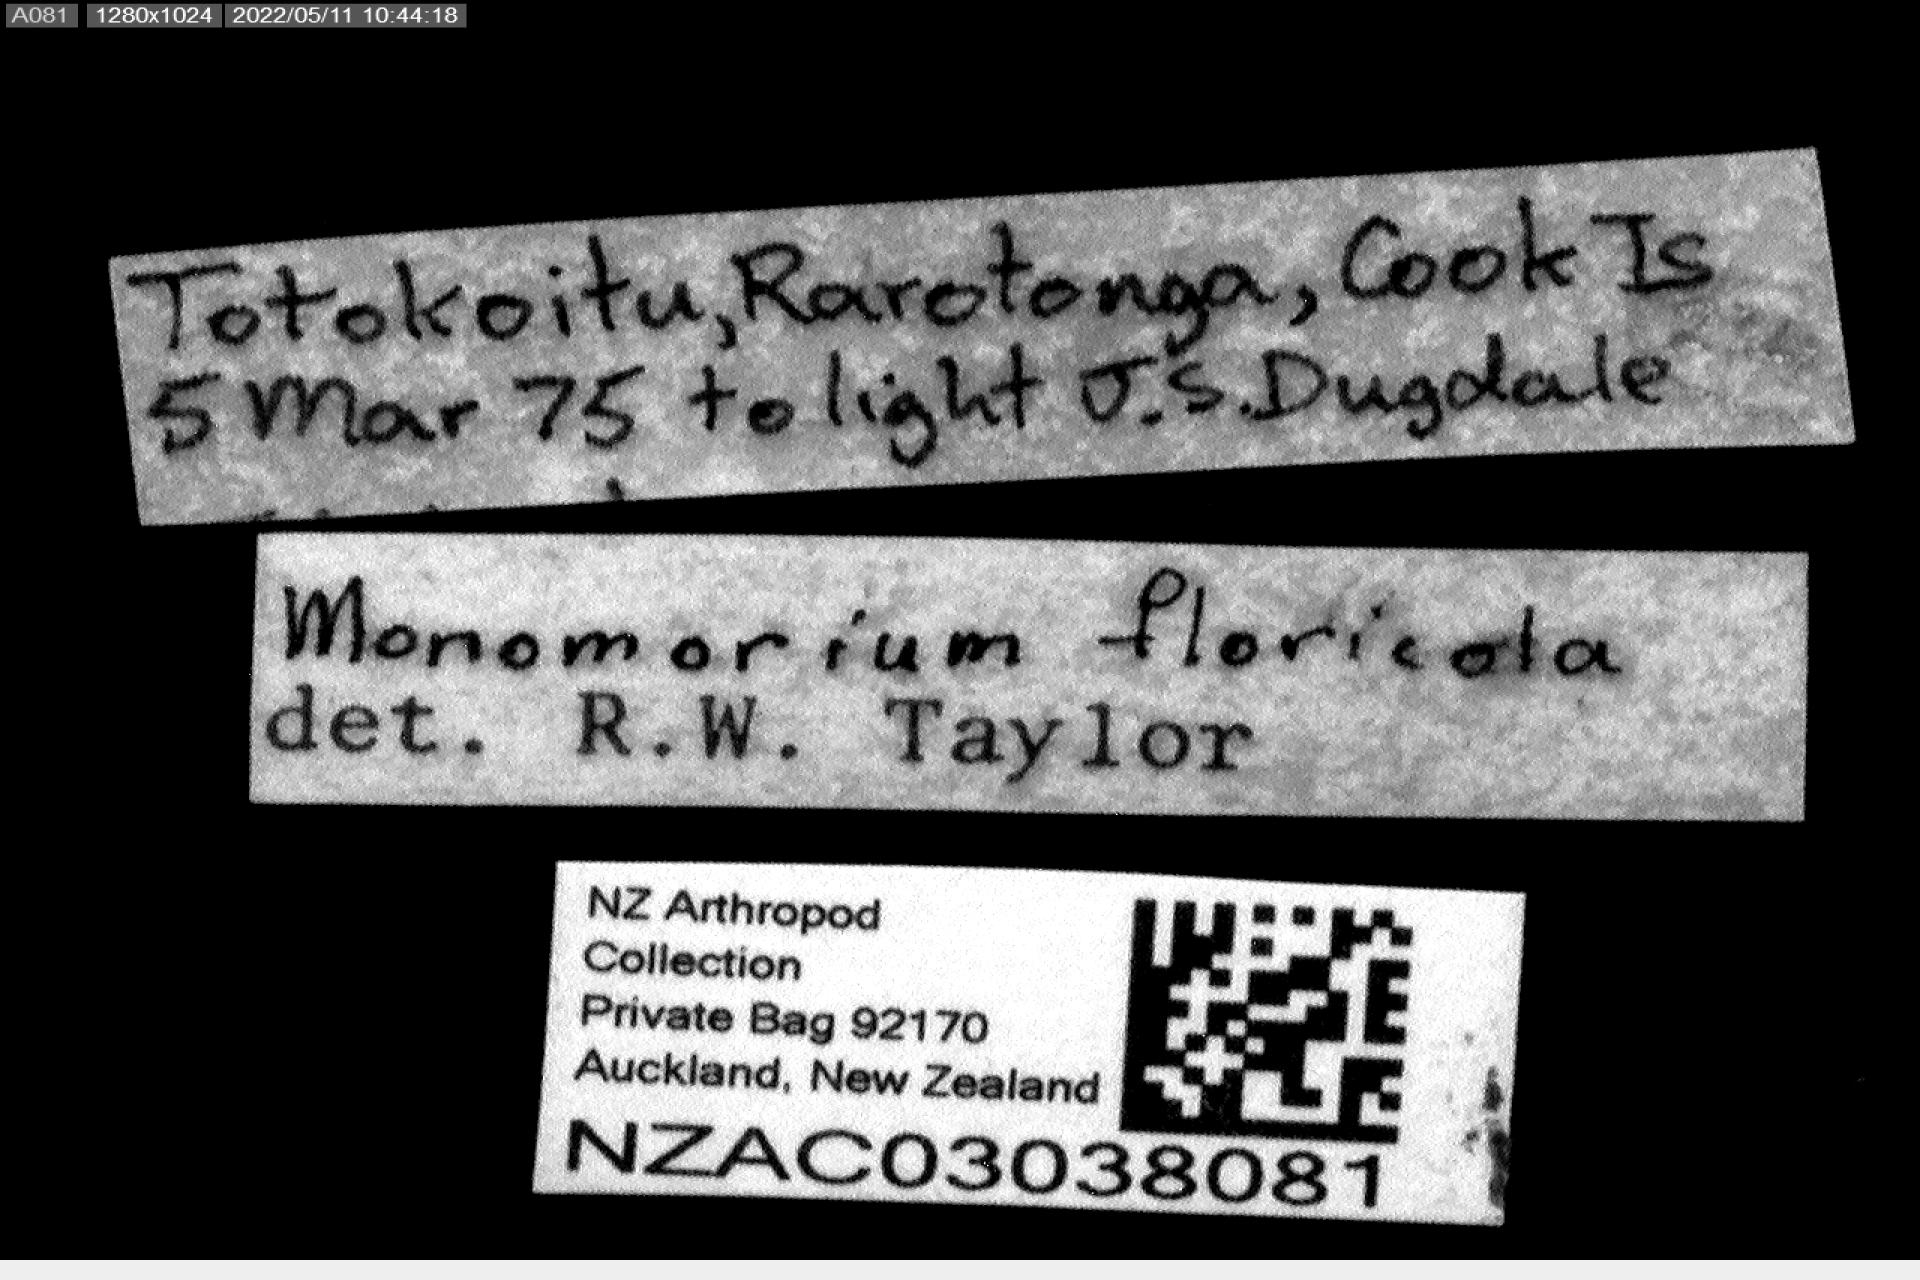hand_label: (113, 150, 1853, 526)
mixed_label: (251, 534, 1807, 819)
typed_label: (536, 863, 1523, 1226)
